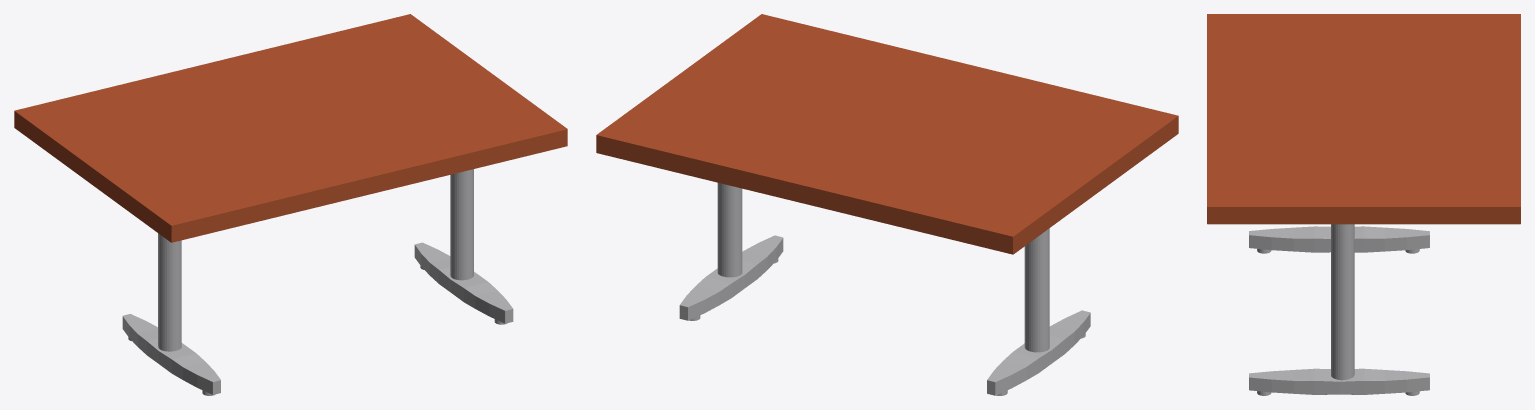
The model's file is Tisch.fbx.
3 views of the same model, side by side, from view 1: azimuth 30°, elevation 25°; view 2: azimuth 150°, elevation 25°; view 3: azimuth 270°, elevation 25° (orthographic). The views are drawn at different scales.
Parts seen in each view (by area): view 1: TischA; view 2: TischA; view 3: TischA.
Part boxes in pixels (box(x1,y1,x2,y2)): TischA: box(14, 14, 567, 395); TischA: box(596, 14, 1178, 395); TischA: box(1207, 14, 1520, 395).
Size of the model in its own units: 1.28 by 0.6311 by 0.8793.
